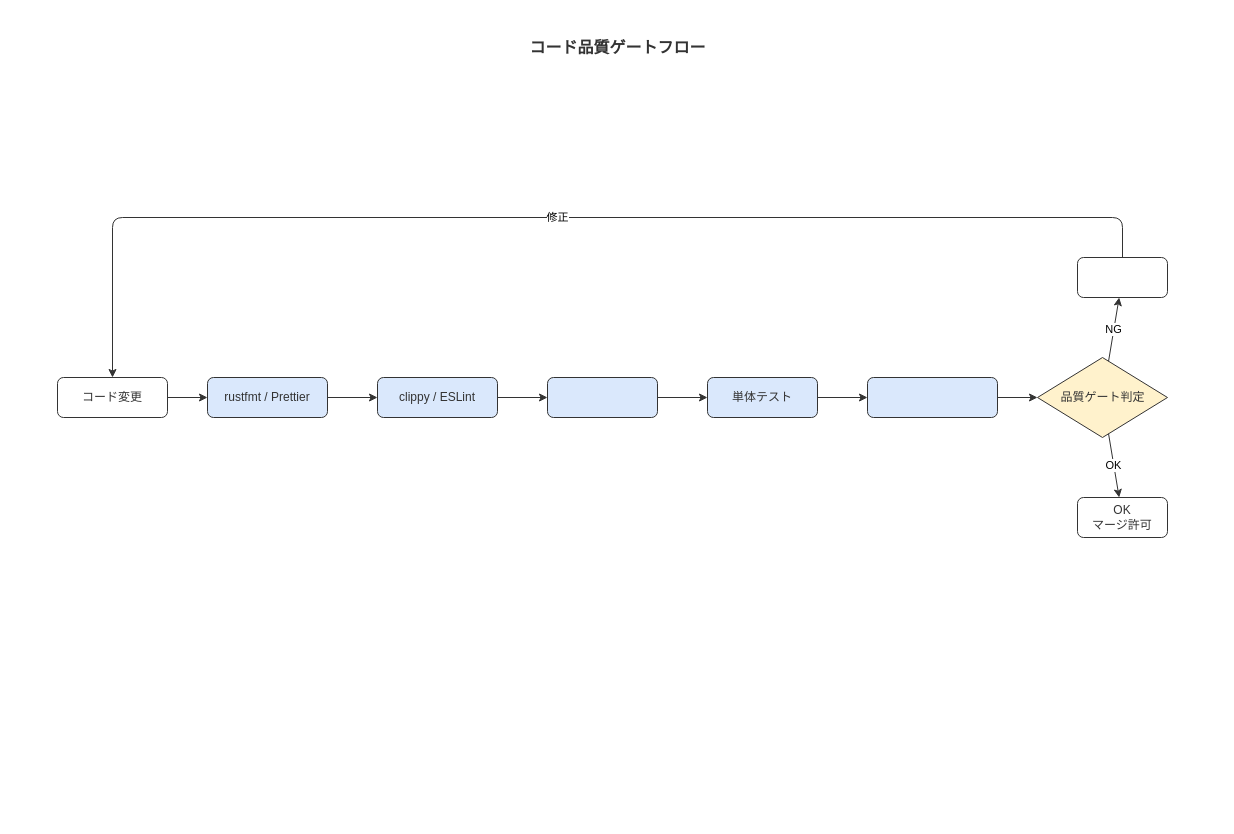
Image size: 1234x834. Some labels were removed from this diagram. The box of each missing label's shape, as (x1, y1, x2, y2) in pixels:
NG 修正要求: (1076, 256, 1168, 298)
セキュリティスキャン: (866, 376, 998, 418)
型チェック: (546, 376, 658, 418)
